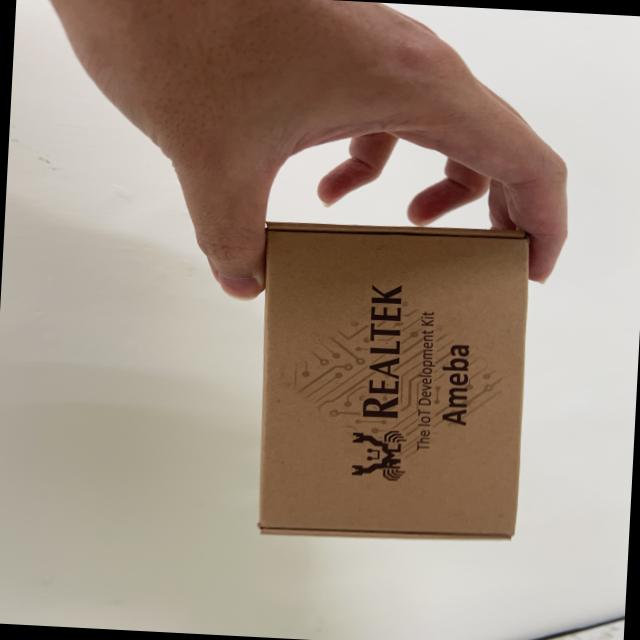box: (243, 202, 640, 571)
